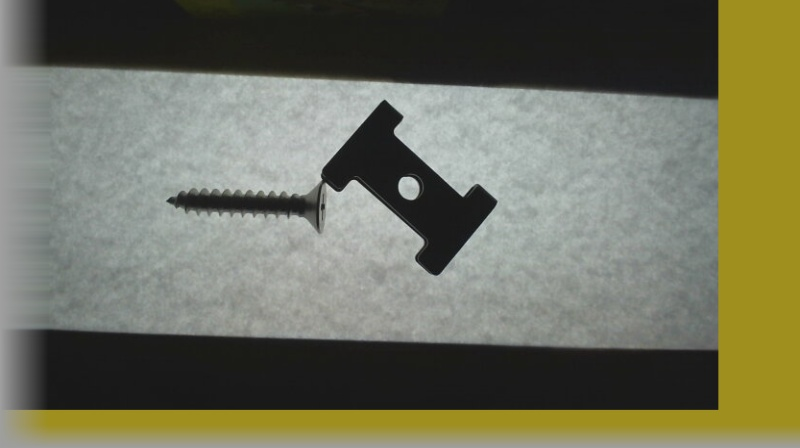O002: (321, 96, 500, 278)
S001: (161, 177, 329, 235)
